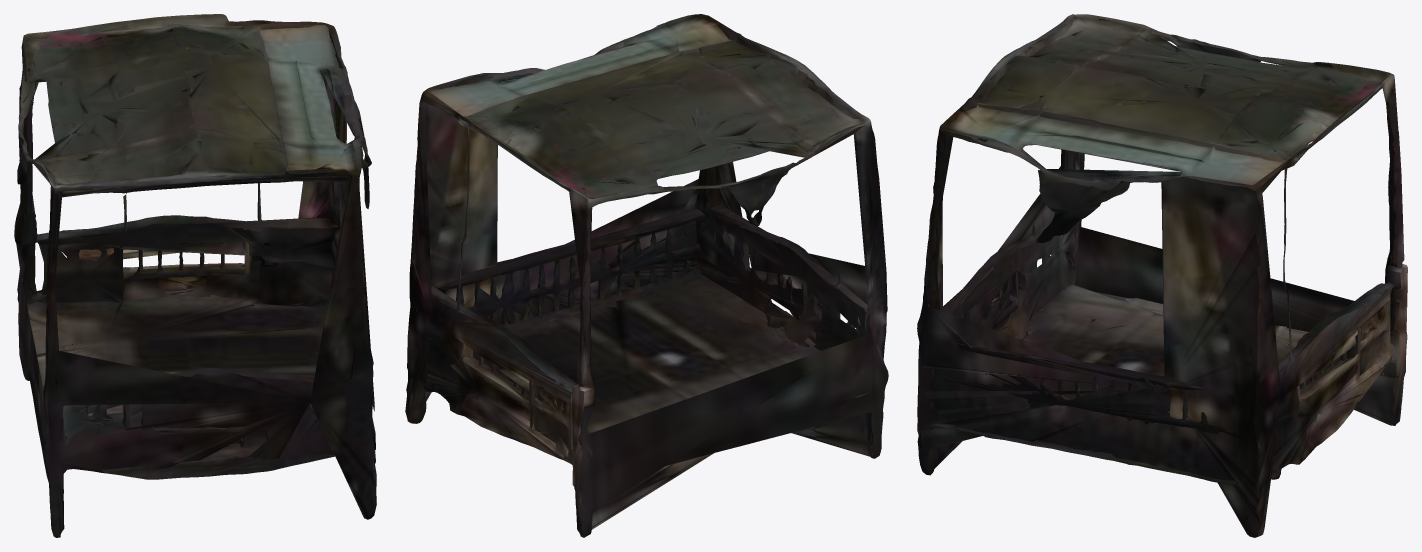
3 views of the same model, side by side, from view 1: azimuth 30°, elevation 25°; view 2: azimuth 150°, elevation 25°; view 3: azimuth 270°, elevation 25° (orthographic). The views are drawn at different scales.
Parts seen in each view (by area): view 1: world; view 2: world; view 3: world.
Boxes of the visible parts, <box> form: world: <box>14,14,376,537</box>; world: <box>405,14,888,537</box>; world: <box>917,14,1407,537</box>.
Bounding box in the file's own units: 0.5844 × 0.5182 × 0.6187.
Materials: 1 (1 with a texture image).
